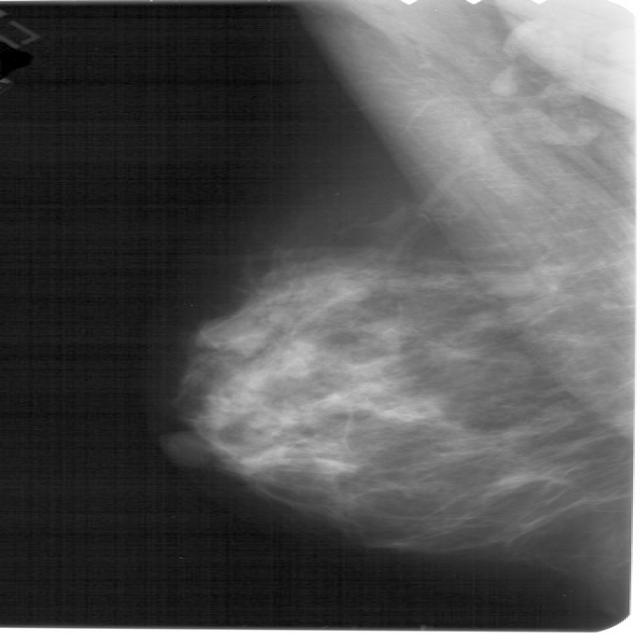tumour: (193, 313, 259, 351)
